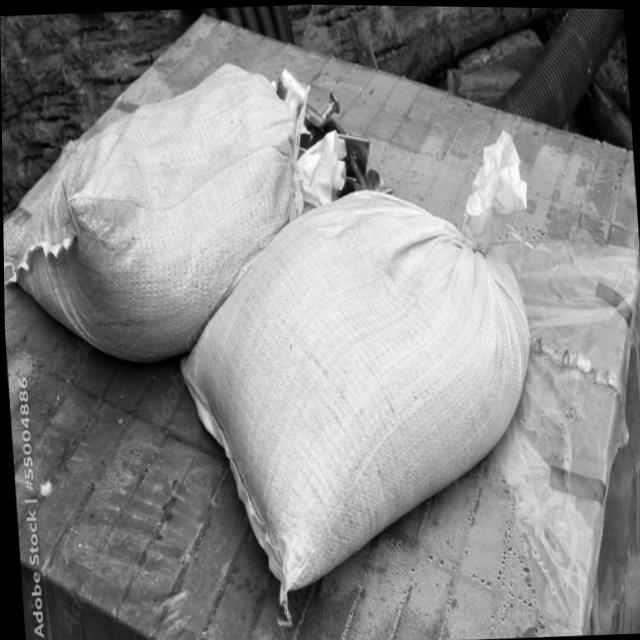sack: (164, 123, 553, 613), (1, 55, 314, 371)
